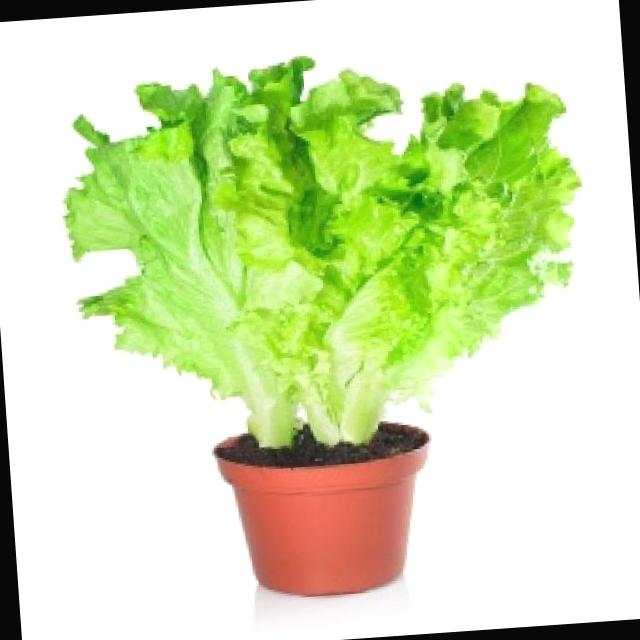Lettuce-Ready-to-Harvest: (66, 57, 579, 444)
